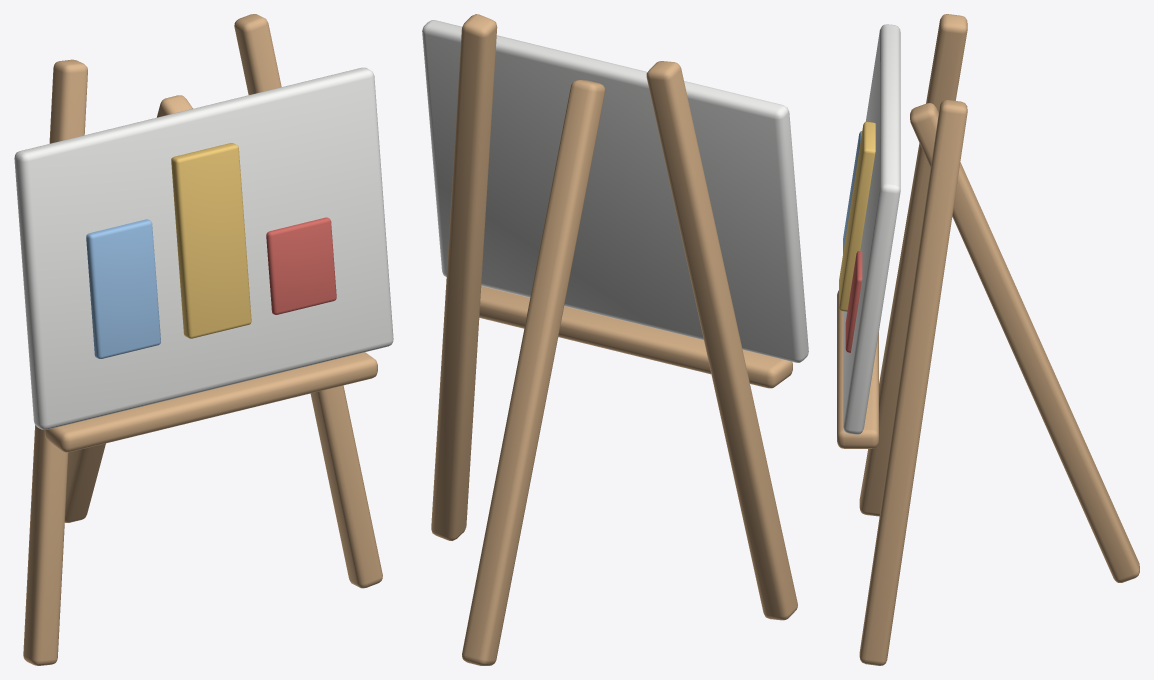
File: activities--tech-talks.glb
3 renders of one model, left to right at view 1: azimuth 30°, elevation 25°; view 2: azimuth 150°, elevation 25°; view 3: azimuth 270°, elevation 25°, orthographic. The views are drawn at different scales.
Parts seen in each view (by area): view 1: activities--tech-talks; view 2: activities--tech-talks; view 3: activities--tech-talks.
Part boxes in pixels (x1,y1,x2,y2): activities--tech-talks: (14, 14, 393, 665); activities--tech-talks: (422, 14, 808, 665); activities--tech-talks: (837, 14, 1139, 665).
Bounding box in the file's own units: 0.5601 × 0.839 × 0.4353.
